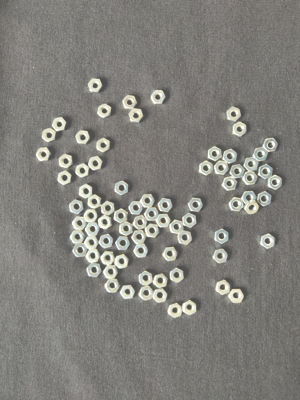nut: (257, 191, 273, 207), (226, 106, 242, 122), (88, 156, 104, 172), (168, 303, 183, 319), (139, 286, 155, 301), (120, 285, 136, 300), (153, 274, 169, 289), (170, 268, 185, 284), (213, 249, 229, 264), (163, 247, 179, 262), (261, 234, 276, 250), (215, 229, 230, 245), (178, 230, 193, 246), (145, 223, 160, 239), (158, 198, 174, 213), (114, 208, 129, 224), (244, 200, 260, 215), (229, 197, 245, 212), (268, 175, 283, 191), (222, 177, 238, 192), (242, 171, 258, 186), (258, 164, 273, 180), (214, 161, 230, 176), (253, 147, 269, 162), (263, 138, 279, 153), (75, 163, 90, 179), (36, 147, 52, 162), (151, 90, 167, 105), (216, 280, 231, 295), (153, 289, 168, 304), (87, 263, 102, 278), (101, 251, 116, 266), (73, 243, 88, 258), (99, 234, 114, 249), (133, 215, 148, 230), (98, 215, 113, 230), (69, 200, 84, 215), (244, 157, 259, 172), (223, 149, 238, 164), (233, 122, 248, 137), (59, 154, 74, 169), (42, 128, 57, 143), (52, 117, 67, 132), (88, 78, 103, 93), (229, 289, 245, 303), (183, 300, 197, 316), (105, 279, 121, 293), (115, 254, 129, 270), (70, 230, 86, 244), (183, 213, 197, 229), (188, 198, 204, 212), (156, 214, 172, 228), (75, 131, 91, 145), (139, 271, 153, 286), (86, 249, 101, 263), (134, 244, 149, 258), (84, 236, 99, 250), (170, 220, 184, 235), (132, 230, 147, 244), (119, 222, 133, 237), (85, 223, 100, 237), (102, 201, 116, 216), (129, 201, 144, 215), (140, 194, 155, 208), (115, 181, 129, 196), (88, 195, 102, 210), (79, 184, 93, 199), (230, 165, 245, 179), (200, 161, 214, 176), (58, 171, 72, 186), (97, 138, 111, 153), (98, 104, 112, 119), (129, 109, 144, 123), (123, 96, 138, 110), (103, 266, 119, 279), (116, 237, 132, 250), (144, 208, 160, 221), (72, 217, 88, 230), (84, 210, 99, 223), (242, 191, 257, 204), (208, 147, 222, 160)
